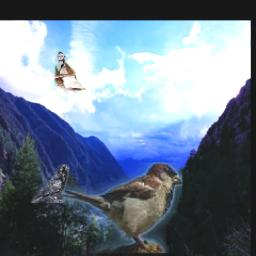Crow: (31, 164, 69, 203)
Cuckoo: (54, 52, 86, 92)
Sparrow: (63, 162, 183, 253)
